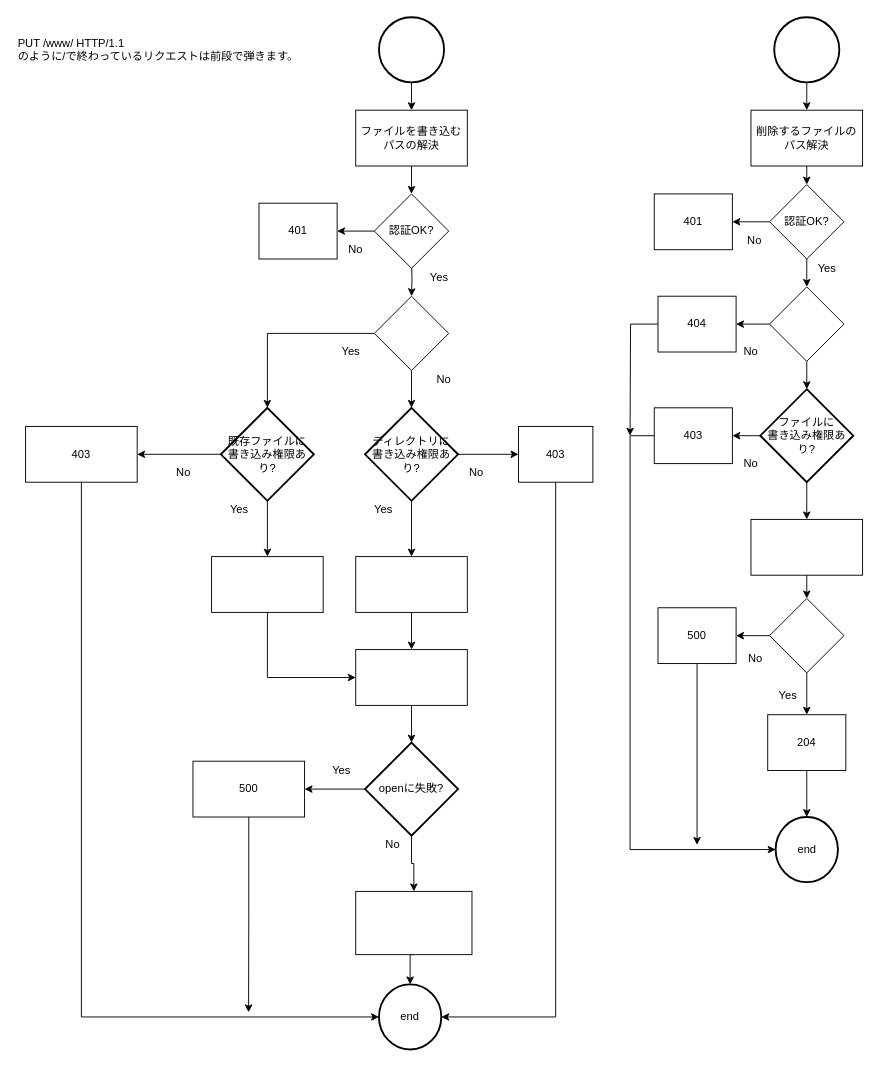
This 879x1066 diagram has some shape labels left out. The box of each missing label's shape, as (x1, y1, x2, y2) in pixels:
201でレスポンスヘッダ作成 ※要Locationヘッダ: (355, 556, 467, 612)
204でレスポンスヘッダ作成: (211, 556, 323, 612)
DELETE: (773, 16, 840, 83)
openしたfdをメインループに返却: (355, 890, 472, 955)
PUT: (378, 16, 445, 83)
unlink: (750, 518, 863, 575)
ファイルあり?: (769, 286, 844, 361)
削除成功?: (769, 598, 844, 673)
既存ファイルあり?: (373, 295, 449, 371)
書き込みファイルをopen: (355, 649, 467, 705)
